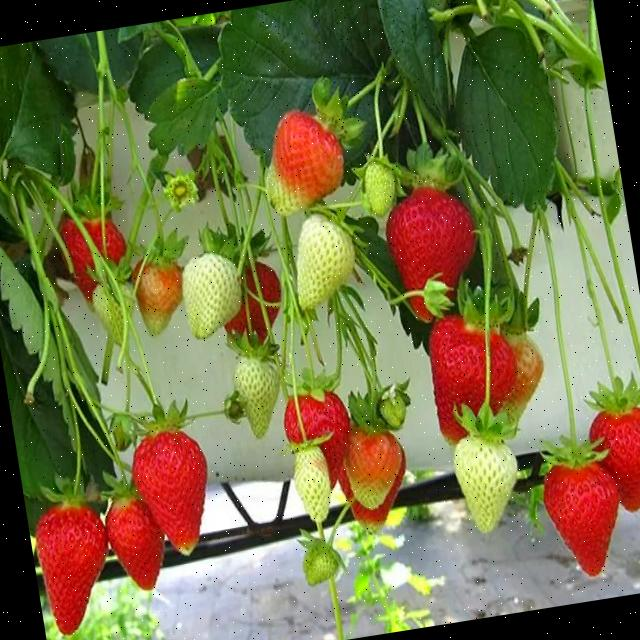Ripe Strawberry: (380, 175, 486, 328), (422, 302, 526, 446), (127, 424, 222, 562), (32, 500, 121, 638), (538, 454, 632, 584), (332, 419, 416, 524), (280, 388, 360, 498), (57, 202, 136, 310), (102, 492, 172, 594), (217, 258, 290, 352), (586, 402, 640, 515)
